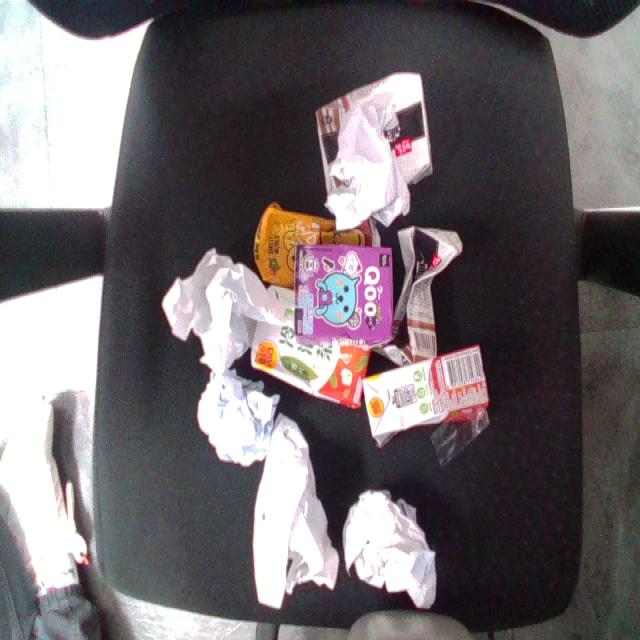juicebox: (349, 335, 505, 455), (289, 234, 402, 362)
paper: (138, 239, 301, 387), (244, 411, 362, 615), (331, 479, 470, 615), (316, 81, 419, 236), (180, 363, 293, 482)
